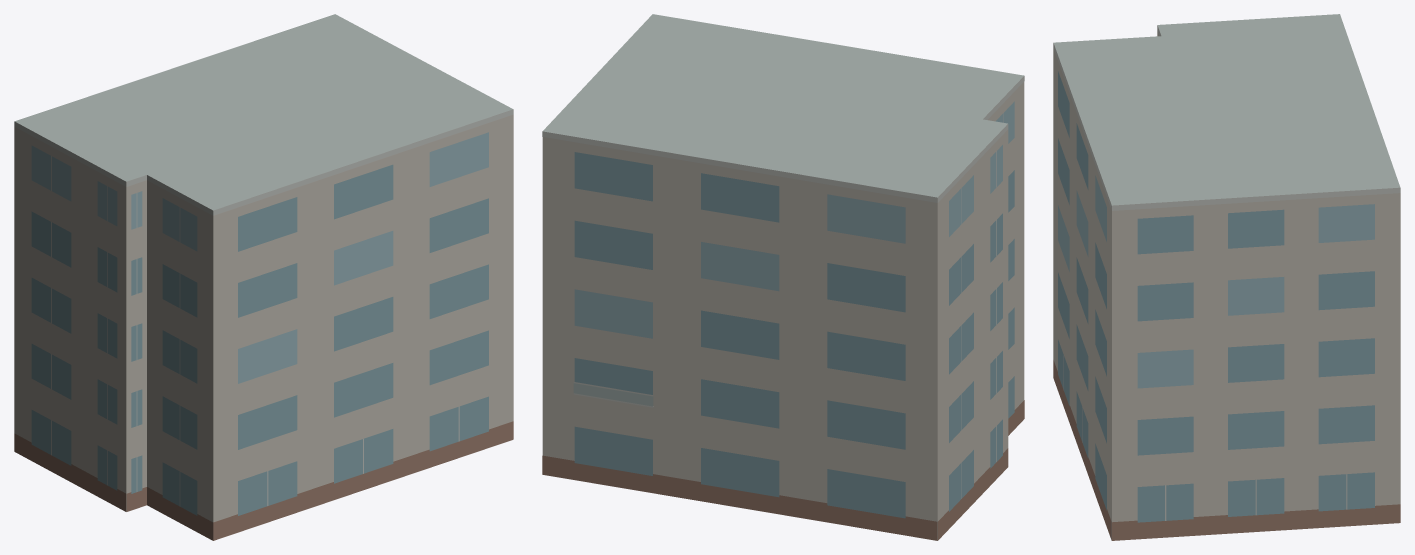
Rendered from survey-upis-32576059.glb.
3 renders of one model, left to right at view 1: azimuth 30°, elevation 25°; view 2: azimuth 150°, elevation 25°; view 3: azimuth 270°, elevation 25°, orthographic. The views are drawn at different scales.
Visible parts, largest first — view 1: survey-upis-32576059.tmp; view 2: survey-upis-32576059.tmp; view 3: survey-upis-32576059.tmp.
Part boxes in pixels (x1=…): survey-upis-32576059.tmp: x1=14, y1=14, x2=513, y2=540; survey-upis-32576059.tmp: x1=542, y1=14, x2=1024, y2=540; survey-upis-32576059.tmp: x1=1053, y1=14, x2=1400, y2=540.
Bounding box in the file's own units: 18.69 × 15.25 × 14.31.
